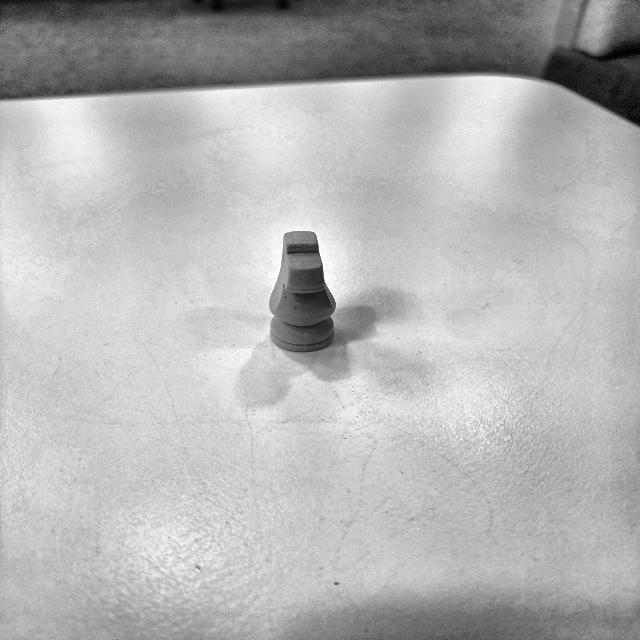white-knight: (268, 231, 336, 352)
